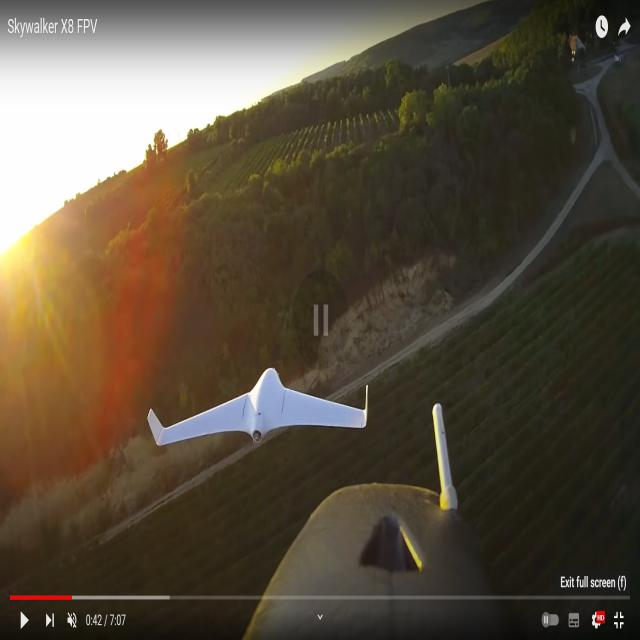iha: (152, 395, 369, 417)
